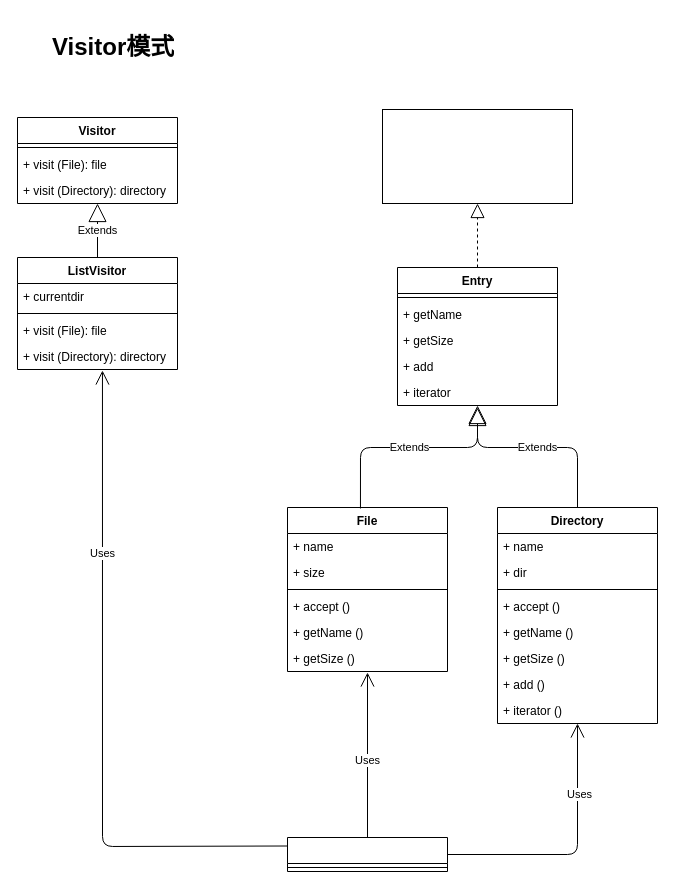
The diagram is 675 pixels wide and 889 high, and some of its shapes have lost their labels. The centre of each missing label's shape, as x and y in pixels:
<<Interface>> Element + accept(): [477,156]
Main: [367,854]
